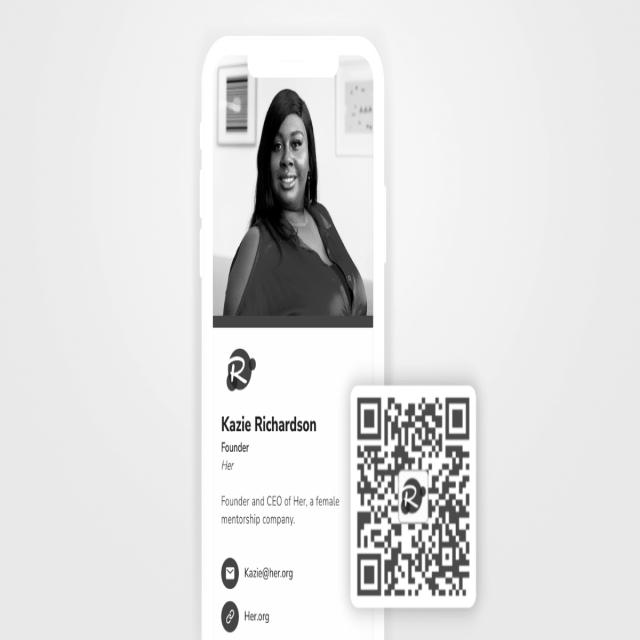QR-codes: (357, 394, 470, 596)
